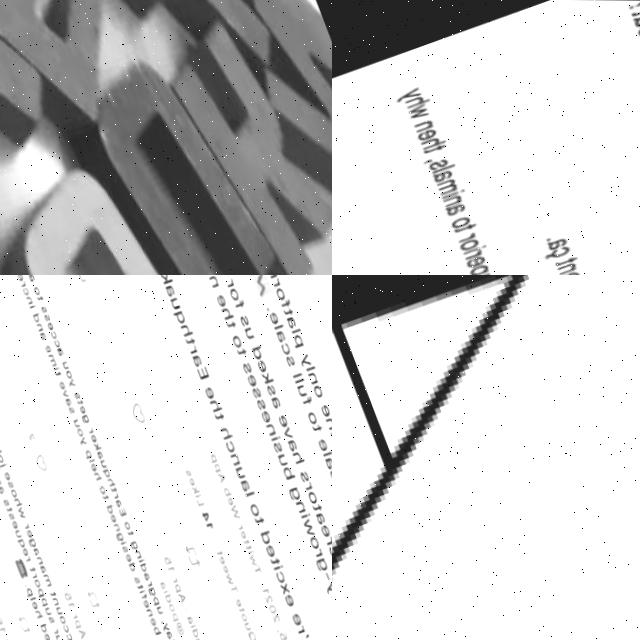0: (198, 507, 210, 522)
1: (275, 628, 286, 640), (161, 553, 172, 565), (61, 589, 72, 601)
A: (332, 275, 640, 640), (274, 327, 287, 341), (285, 437, 298, 451), (190, 352, 203, 366), (285, 314, 297, 328), (313, 509, 325, 523), (269, 394, 281, 408), (238, 477, 250, 491), (164, 282, 176, 296), (322, 454, 332, 468), (215, 470, 226, 482), (175, 590, 186, 602), (76, 627, 85, 638), (184, 613, 192, 624), (114, 497, 121, 507), (31, 545, 38, 555), (158, 579, 165, 588), (164, 629, 171, 638), (142, 571, 149, 580), (96, 449, 103, 458), (56, 346, 63, 355), (64, 396, 71, 405), (39, 330, 46, 339), (38, 563, 45, 572), (28, 275, 35, 280), (0, 484, 3, 493)
B: (281, 463, 295, 479), (221, 485, 230, 496), (151, 624, 159, 634)
C: (223, 437, 235, 453), (279, 340, 291, 354), (273, 568, 285, 582), (49, 328, 58, 339), (325, 543, 332, 557), (52, 336, 60, 347), (21, 285, 28, 294), (63, 631, 70, 640), (61, 623, 68, 632)
D: (257, 528, 272, 543), (250, 343, 264, 358), (137, 560, 148, 572), (31, 311, 42, 323), (162, 592, 172, 602), (38, 621, 47, 632), (190, 626, 198, 636), (127, 561, 135, 571), (105, 503, 113, 513), (329, 590, 332, 605), (166, 636, 177, 640), (156, 638, 165, 640)
E: (0, 0, 167, 183), (195, 363, 209, 379), (319, 401, 331, 417), (215, 291, 227, 307), (275, 412, 288, 426), (202, 384, 215, 398), (289, 610, 301, 625), (316, 437, 328, 451), (268, 309, 280, 323), (318, 523, 330, 537), (255, 357, 267, 371), (259, 408, 271, 422), (245, 372, 257, 386), (282, 592, 294, 606), (263, 542, 275, 556), (224, 494, 233, 505), (29, 598, 37, 610), (88, 431, 96, 442), (88, 460, 96, 471), (57, 379, 65, 390), (24, 527, 32, 538), (2, 469, 10, 480), (40, 630, 48, 640), (117, 505, 125, 515), (46, 321, 54, 330), (147, 616, 155, 625), (123, 552, 131, 561), (238, 529, 245, 538), (233, 596, 240, 605), (221, 563, 228, 572), (217, 555, 224, 564), (187, 476, 194, 485), (78, 404, 85, 413), (141, 598, 148, 607), (108, 512, 115, 521), (44, 344, 51, 353), (20, 546, 27, 555), (10, 519, 17, 528), (15, 275, 23, 279)
F: (279, 296, 291, 308), (300, 393, 312, 404), (233, 297, 245, 308), (139, 591, 146, 598)
G: (286, 484, 300, 500), (313, 556, 327, 571), (127, 538, 138, 550), (26, 535, 35, 547), (145, 585, 154, 595), (80, 413, 89, 423), (114, 531, 122, 541)
H: (179, 321, 194, 336), (290, 448, 304, 464), (220, 304, 234, 319), (219, 424, 233, 439), (208, 396, 222, 411), (323, 413, 332, 428), (12, 495, 21, 505), (106, 475, 114, 485), (92, 469, 100, 479), (33, 607, 41, 617)
I: (299, 511, 309, 517), (270, 434, 280, 440), (272, 563, 282, 569), (29, 302, 36, 308), (136, 557, 144, 562), (245, 548, 252, 553), (193, 491, 200, 496), (188, 621, 195, 626), (161, 588, 168, 593), (137, 588, 144, 593), (118, 539, 125, 544), (52, 364, 59, 369)
J: (0, 461, 6, 468)
K: (144, 0, 332, 275), (260, 369, 273, 382), (158, 275, 173, 283), (91, 439, 101, 449), (190, 482, 198, 492)
L: (195, 495, 203, 505), (290, 326, 301, 332), (305, 364, 315, 370), (321, 449, 331, 455), (293, 376, 303, 382), (291, 371, 301, 377), (273, 322, 283, 328), (243, 489, 253, 495), (87, 457, 94, 462), (28, 595, 35, 600)
M: (47, 353, 56, 366), (41, 572, 50, 585)
N: (211, 0, 332, 249), (293, 498, 306, 512), (306, 369, 318, 383), (264, 420, 276, 434), (228, 451, 240, 465), (207, 275, 219, 286), (25, 294, 33, 304), (111, 521, 119, 530), (35, 322, 43, 331), (133, 548, 140, 557), (144, 606, 151, 615), (50, 596, 57, 605), (35, 555, 42, 564)
O: (311, 382, 324, 398), (305, 408, 318, 424), (274, 284, 286, 300), (231, 332, 243, 348), (307, 534, 319, 548), (247, 501, 259, 515), (305, 488, 317, 502), (228, 286, 240, 300), (166, 601, 174, 612), (122, 519, 130, 530), (64, 367, 72, 378), (97, 483, 105, 494), (75, 425, 83, 436), (32, 576, 40, 587), (238, 611, 246, 620), (33, 286, 40, 295), (57, 614, 64, 623), (9, 487, 16, 496), (192, 635, 200, 640), (0, 452, 3, 461)
P: (290, 332, 304, 347), (34, 586, 43, 597), (171, 582, 180, 592), (168, 610, 177, 620), (149, 594, 157, 604), (83, 448, 91, 458), (38, 596, 46, 606), (23, 586, 31, 596), (71, 618, 79, 628), (211, 462, 219, 472), (207, 452, 215, 462)
Q: (172, 308, 186, 323), (243, 627, 255, 640), (15, 537, 24, 548), (101, 466, 110, 476)
R: (271, 276, 281, 286), (322, 534, 332, 544), (302, 479, 312, 489), (225, 277, 235, 287), (312, 546, 322, 556), (295, 623, 303, 633), (188, 343, 196, 353), (29, 570, 35, 577), (70, 612, 77, 618), (235, 523, 241, 529), (169, 575, 175, 581), (145, 579, 151, 585), (112, 491, 118, 497), (87, 427, 93, 433), (20, 279, 26, 285), (22, 521, 28, 527), (23, 554, 29, 560), (51, 627, 56, 633), (0, 636, 6, 640)
S: (284, 352, 296, 367), (297, 468, 309, 482), (238, 312, 250, 326), (271, 438, 283, 452), (254, 395, 266, 409), (241, 359, 253, 373), (250, 384, 262, 396), (265, 383, 276, 395), (326, 466, 332, 480), (183, 467, 191, 476), (45, 614, 53, 623), (1, 497, 9, 506), (120, 542, 127, 552), (73, 389, 80, 398), (43, 311, 50, 320), (40, 303, 47, 312), (131, 575, 138, 584), (67, 404, 74, 413), (6, 479, 13, 488), (6, 511, 13, 520)
T: (311, 421, 323, 432), (225, 317, 237, 328), (252, 514, 264, 525), (213, 410, 225, 421), (184, 334, 196, 345), (250, 562, 261, 574), (283, 305, 293, 316), (227, 583, 238, 593), (311, 501, 321, 511), (236, 346, 246, 356), (269, 555, 279, 565), (36, 294, 44, 301), (126, 528, 133, 535), (76, 397, 83, 404), (101, 492, 108, 499), (48, 590, 55, 597), (328, 427, 332, 438), (109, 485, 116, 491), (135, 582, 142, 588), (244, 543, 250, 549), (242, 537, 248, 543), (237, 606, 243, 612), (54, 370, 60, 376), (215, 549, 221, 554), (28, 565, 34, 570), (6, 506, 12, 511)
U: (55, 31, 306, 275), (295, 383, 308, 397), (242, 324, 255, 338), (168, 295, 181, 309), (275, 451, 287, 465), (233, 464, 245, 478), (242, 620, 249, 629), (154, 604, 161, 613), (99, 458, 106, 467), (62, 360, 69, 369), (72, 418, 79, 427), (54, 605, 61, 614), (42, 605, 49, 614), (13, 528, 20, 537), (53, 632, 59, 640)
V: (281, 424, 293, 439), (61, 387, 68, 396)
W: (300, 516, 314, 536), (228, 502, 240, 518), (246, 552, 256, 565), (223, 571, 232, 584), (16, 504, 25, 517)
X: (277, 580, 289, 592)
Y: (297, 352, 311, 367), (321, 578, 332, 593), (159, 621, 169, 631), (77, 435, 86, 445), (67, 377, 75, 387)
